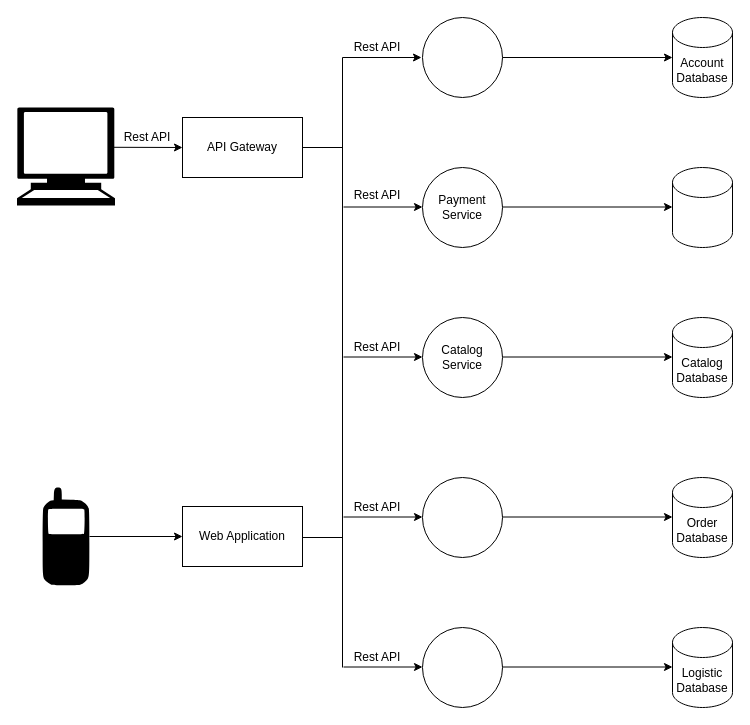
The diagram is 750 pixels wide and 725 high, and some of its shapes have lost their labels. Each missing label, with the box of its shape:
Account Service: (422, 16, 502, 98)
Logistic Service: (422, 626, 502, 708)
Order Service: (422, 476, 502, 558)
Payment Database: (672, 166, 732, 248)
